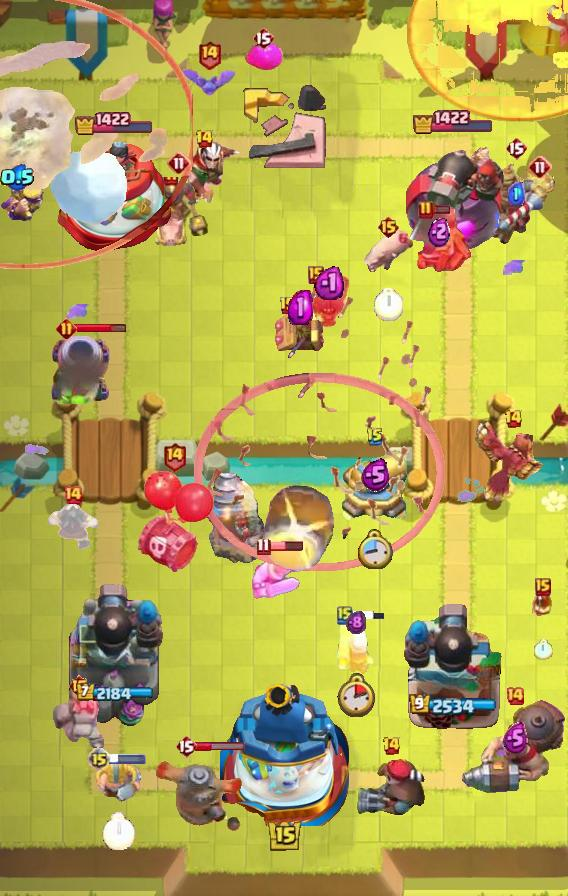arrows: (0, 180, 46, 223)
barbarian: (180, 67, 238, 97)
bomber: (532, 590, 554, 616)
dark-prince: (156, 749, 246, 835)
dirt: (261, 483, 339, 575)
electro-spirit: (314, 264, 344, 300), (0, 165, 36, 192), (362, 458, 390, 492), (288, 291, 312, 325), (504, 722, 529, 754), (428, 217, 450, 248), (346, 609, 366, 634), (508, 182, 525, 206)
elixir: (337, 673, 375, 717), (357, 529, 393, 569), (101, 812, 134, 850), (374, 288, 403, 321), (535, 639, 554, 660)
emote: (73, 322, 126, 333), (194, 740, 246, 751), (268, 540, 304, 552), (350, 609, 386, 621), (109, 754, 147, 764), (432, 204, 452, 216)
freeze: (145, 177, 213, 251)
giant: (360, 228, 416, 278)
goblin-brawler: (273, 305, 327, 355)
goblin-cage: (48, 334, 112, 404)
goblin-giant: (250, 543, 304, 599), (94, 759, 142, 802)
golden-knight: (475, 420, 551, 502), (308, 271, 350, 331)
ice-spirit-evolution: (523, 167, 557, 195)
king-tower: (219, 678, 349, 826)
lumberjack: (46, 500, 100, 552)
magic-archer: (208, 472, 268, 564)
miner: (243, 43, 283, 71)
phoenix-egg: (408, 0, 568, 122)
phoenix-small: (354, 758, 428, 820)
queen-tower: (51, 137, 177, 255)
ram-rider: (476, 163, 556, 247)
royal-ghost: (0, 0, 192, 268)
royal-giant-evolution: (405, 206, 473, 276)
royal-recruit: (339, 443, 411, 525)
royal-recruit-evolution: (133, 470, 215, 576)
selected: (413, 109, 496, 135), (73, 112, 154, 137), (409, 694, 497, 717), (75, 683, 153, 703)
skeleton-barrel: (193, 291, 446, 571)
skeleton-king: (165, 140, 243, 204)
text: (197, 39, 222, 70), (162, 441, 186, 472), (167, 151, 191, 175), (528, 155, 552, 179), (87, 747, 111, 771), (377, 215, 400, 239), (68, 674, 91, 698), (252, 26, 274, 50), (505, 136, 527, 160), (175, 734, 197, 758), (55, 317, 76, 338), (194, 129, 214, 149), (63, 485, 83, 505), (505, 686, 525, 706), (505, 409, 524, 429), (383, 736, 402, 756), (279, 296, 297, 316), (366, 427, 384, 447), (418, 200, 434, 220), (337, 605, 353, 625), (308, 266, 324, 284), (535, 578, 551, 596), (257, 537, 272, 555)
tombstone: (335, 618, 377, 676)
tower-bar: (63, 579, 165, 731), (403, 601, 503, 731), (402, 136, 504, 256)
valkyrie-evolution: (50, 687, 108, 751)
wall-breaker: (47, 146, 129, 225)
wizard: (456, 698, 568, 796)
